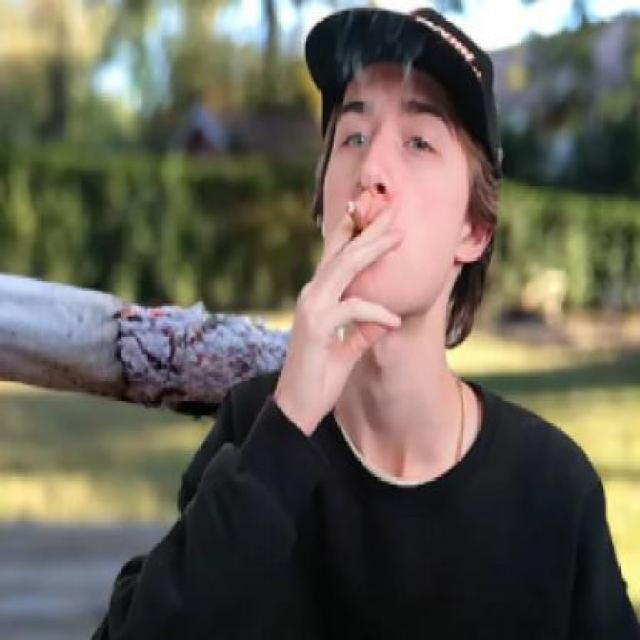smoke: (332, 178, 386, 260)
